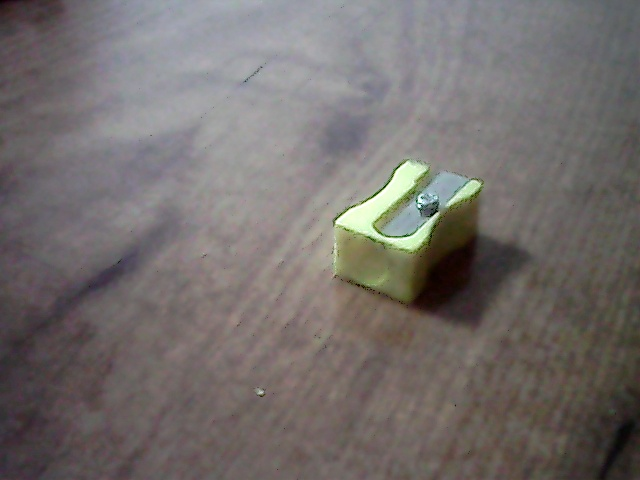Thesis-Bottle-Cap-Defect-Detecti: (335, 161, 483, 303)
